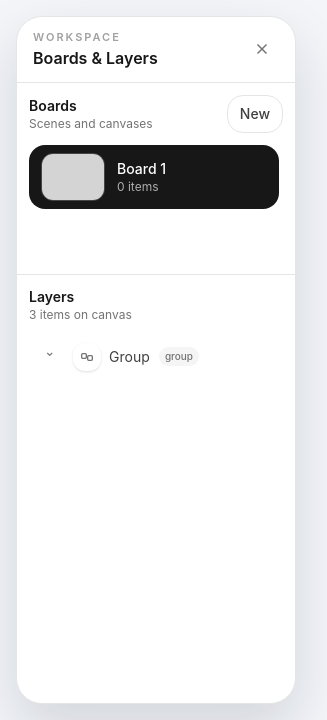
Test: WorkspaceSidebar layers › shows a Canva group as one layer and expands to reveal grouped children
This screenshot has width=327, height=720.
Expected: the text "Group" is shown, [109,347,151,367]
Expected: the text "Reference image" is not shown
Click the button named "Expand group layer": (53, 357) [41,345,65,369]
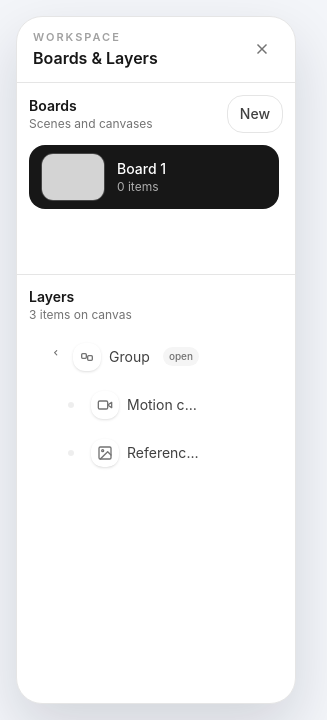
Expected: the text "Reference image" is shown, [127,443,199,463]
Expected: the text "Motion clip" is shown, [127,395,199,415]
